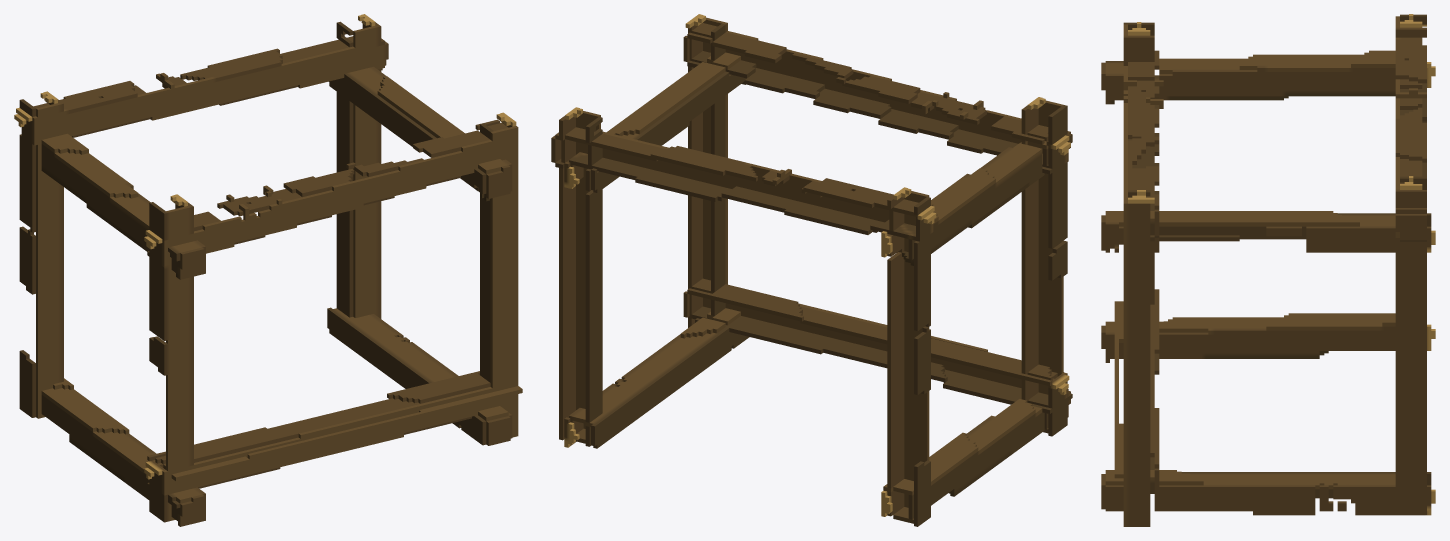
The model's file is Ranch_01.fbx.
The picture shows the model from 3 angles, left to right: view 1: azimuth 30°, elevation 25°; view 2: azimuth 150°, elevation 25°; view 3: azimuth 270°, elevation 25°; orthographic projection. The views are drawn at different scales.
Parts seen in each view (by area): view 1: Ranch_01; view 2: Ranch_01; view 3: Ranch_01.
Part boxes in pixels (left/top/right/bottom): Ranch_01: left=14, top=14, right=522, bottom=526; Ranch_01: left=551, top=14, right=1072, bottom=526; Ranch_01: left=1101, top=14, right=1435, bottom=526.
Bounding box in the file's own units: 98 × 84 × 75.
